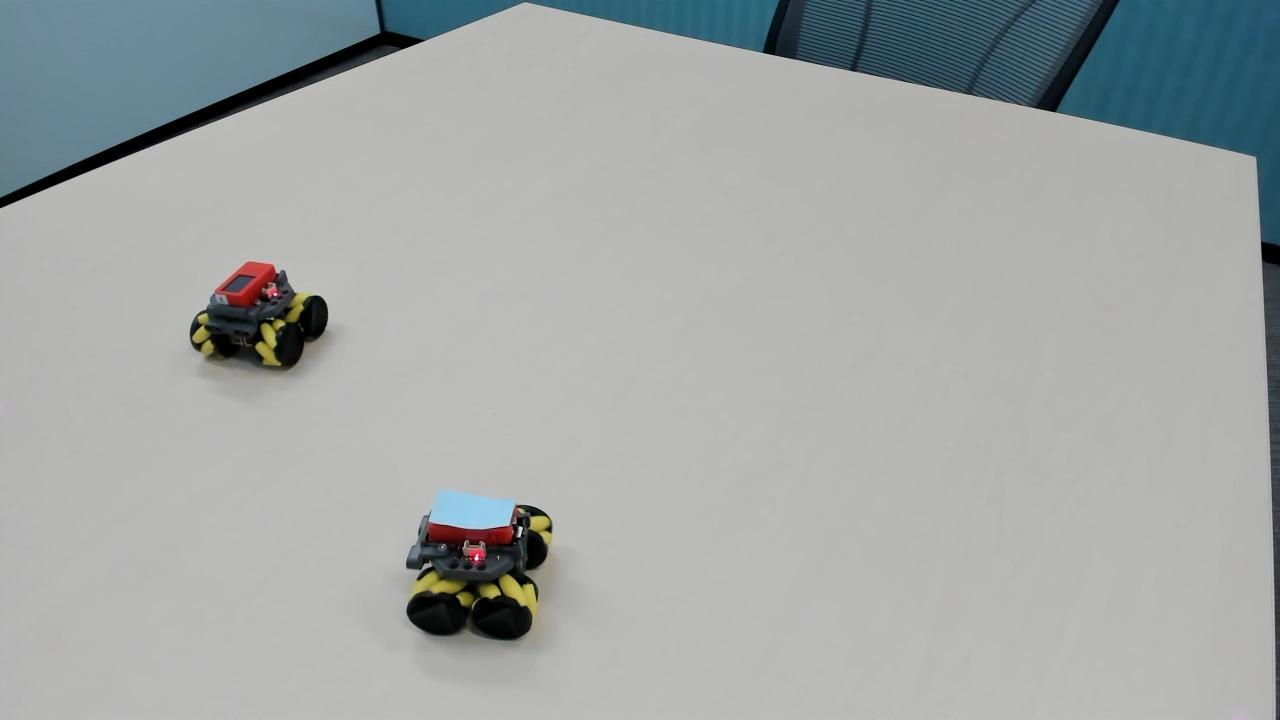B-Robot: (398, 479, 569, 651)
R-Robot: (171, 248, 333, 394)
